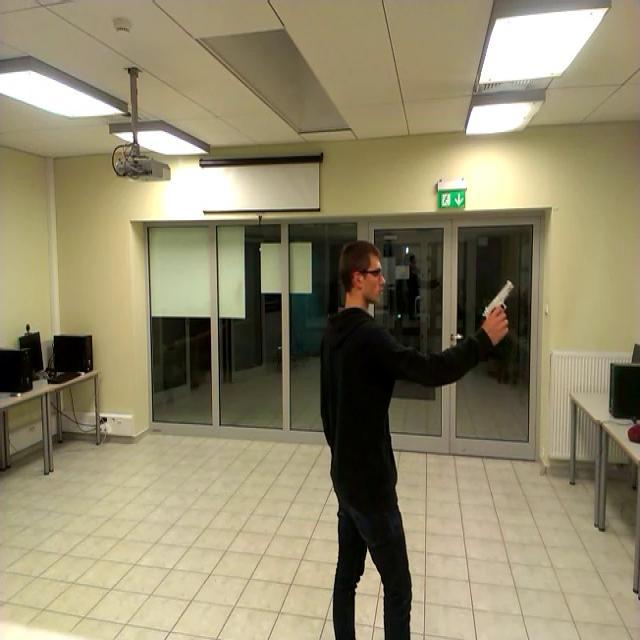Gun: (476, 269, 519, 333)
